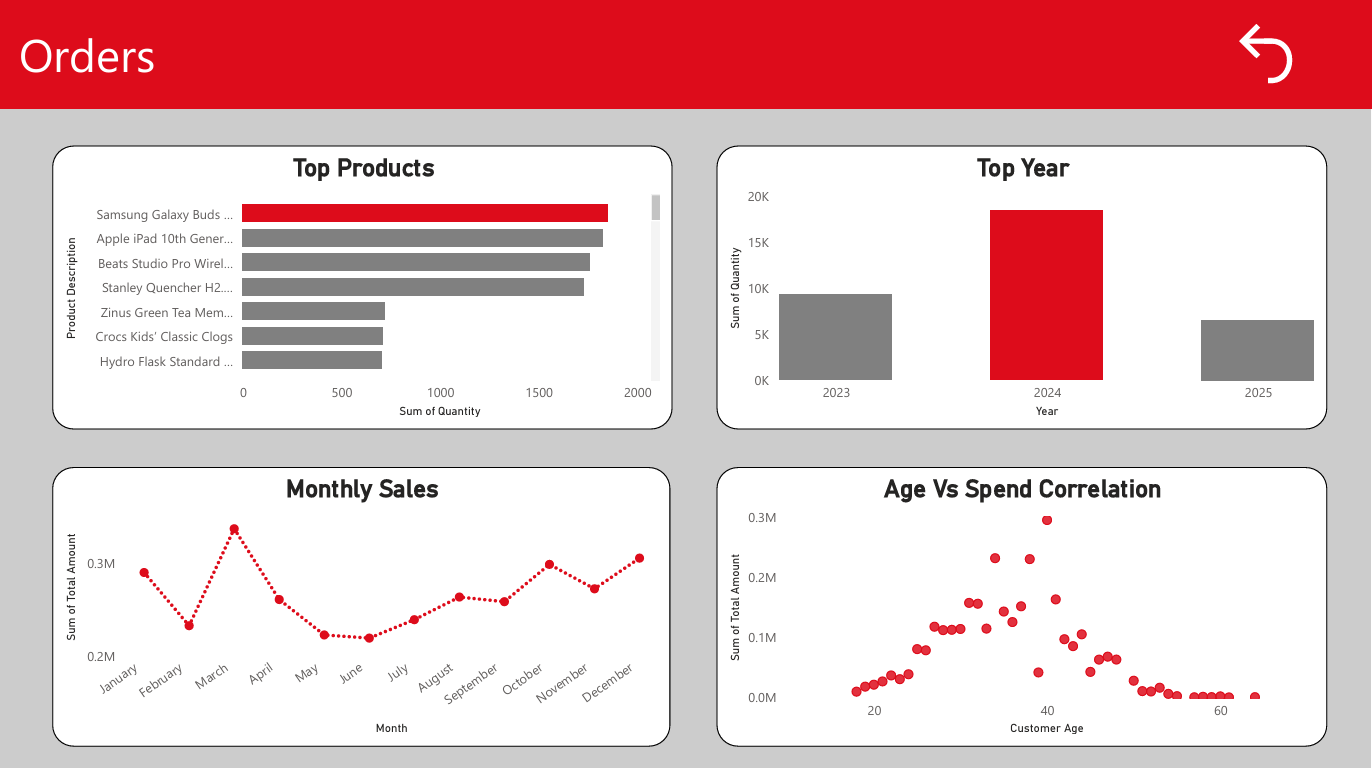

This screenshot's page, from the dashboard's own definition file:
{"tool":"powerbi","page":{"name":"Orders","canvas":[1280,720],"ordinal":2},"visuals":[{"type":"clusteredBarChart","title":"Top Products","fields":{"Category":["products.Product Description"],"Y":["Sum(orders.Quantity)"]},"box":[48.3,136.7,578.3,265],"z":0},{"type":"clusteredColumnChart","title":"Top Year","fields":{"Y":["Sum(orders.Quantity)"],"Category":["orders.Order Date.Variation.Date Hierarchy.Year","orders.Order Date.Variation.Date Hierarchy.Quarter","orders.Order Date.Variation.Date Hierarchy.Month","orders.Order Date.Variation.Date Hierarchy.Day"]},"box":[668.3,136.7,570,265],"z":1000},{"type":"lineChart","title":"Monthly Sales","fields":{"Category":["orders.Order Date.Variation.Date Hierarchy.Month"],"Y":["Sum(orders.Total Amount)"]},"box":[48.3,436.7,576.7,261.7],"z":2000},{"type":"scatterChart","title":"Age Vs Spend Correlation","fields":{"X":["customer profiles.Customer Age"],"Y":["Sum(orders.Total Amount)"]},"box":[668.3,436.7,570,261.7],"z":3000},{"type":"textbox","box":[0,0,1280.8,103],"z":4000},{"type":"actionButton","title":"RESET","box":[1146.7,16.7,91.7,68.3],"z":5000}]}

Visuals, with their boxes in screenshot pixels (x1, y1, x2, y2), scaled from the page's 1280x720 canvas onto the 1372x768 screenshot:
"Top Products" clusteredBarChart: (x1=52, y1=146, x2=672, y2=428)
"Top Year" clusteredColumnChart: (x1=716, y1=146, x2=1327, y2=428)
"Monthly Sales" lineChart: (x1=52, y1=466, x2=670, y2=745)
"Age Vs Spend Correlation" scatterChart: (x1=716, y1=466, x2=1327, y2=745)
textbox: (x1=0, y1=0, x2=1371, y2=110)
"RESET" actionButton: (x1=1229, y1=18, x2=1327, y2=91)
